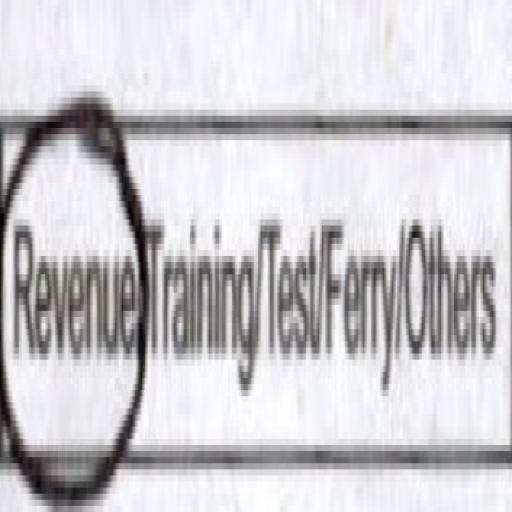check: (0, 55, 142, 512)
